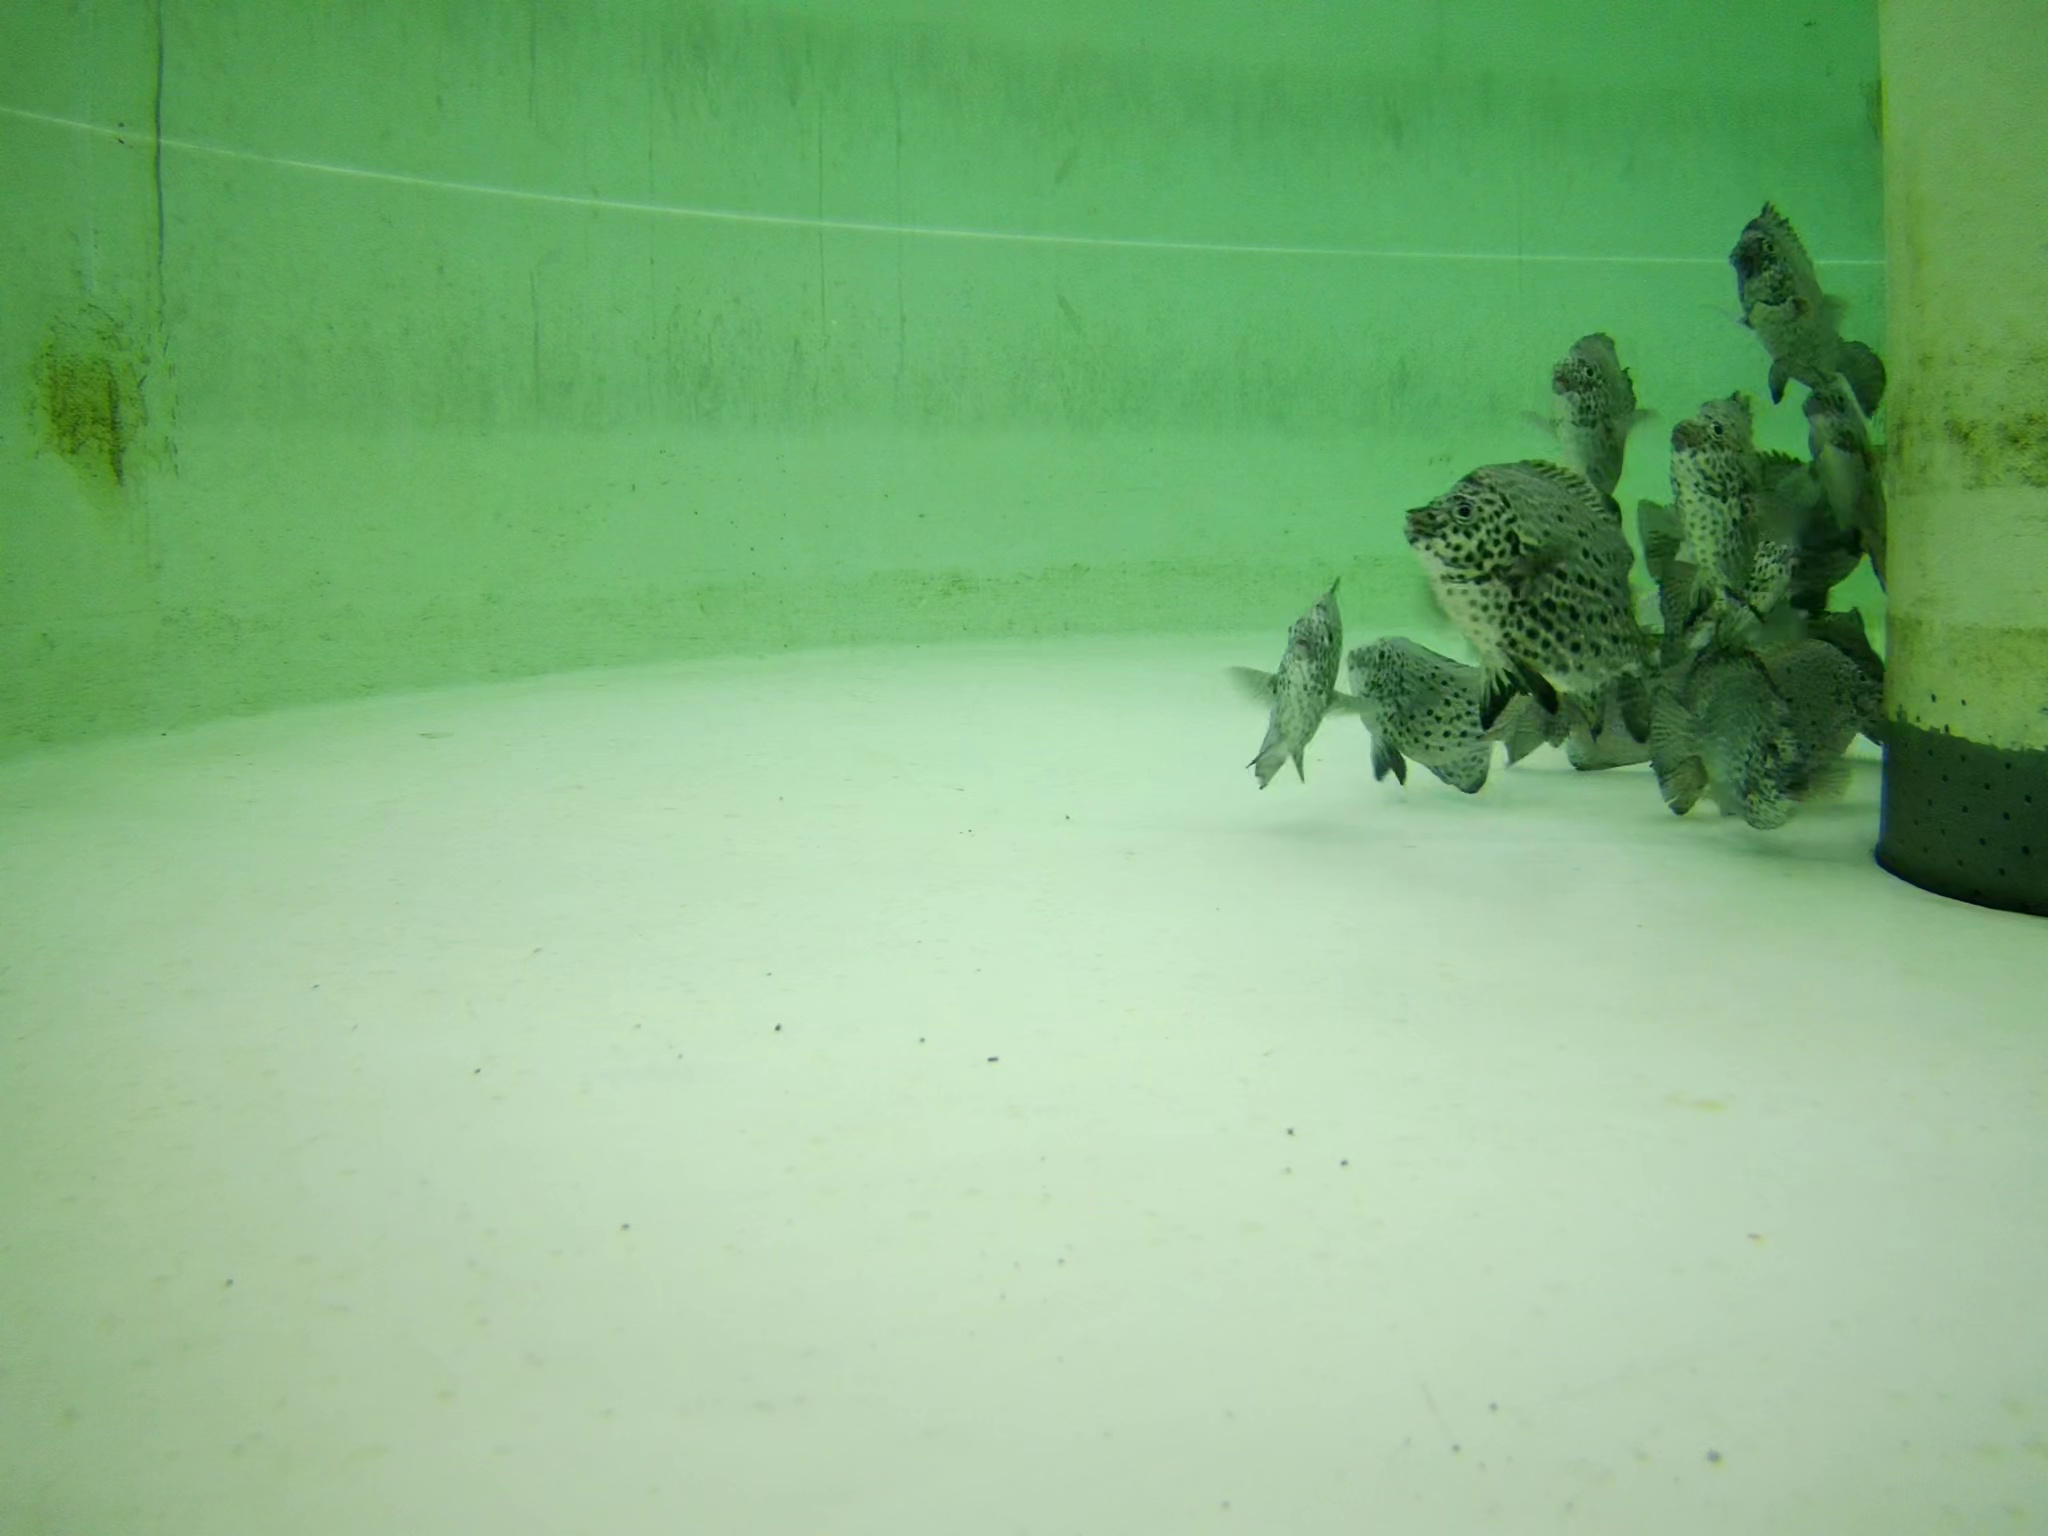fish: (1409, 426, 1667, 703), (1725, 202, 1895, 413), (1343, 626, 1514, 794), (1643, 644, 1796, 829), (1234, 557, 1356, 781), (1653, 407, 1782, 603), (1709, 641, 1875, 781), (1532, 313, 1625, 487), (1803, 402, 1898, 573), (1745, 444, 1859, 586), (1809, 600, 1893, 736)
